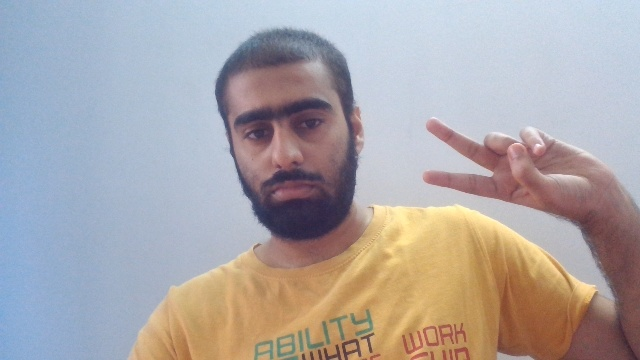scissors: (421, 115, 609, 229)
